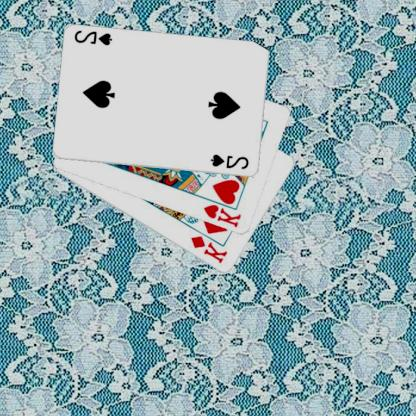2S: (210, 152, 252, 171), (73, 28, 116, 46)
KD: (190, 234, 230, 265)
KH: (203, 202, 244, 229)
